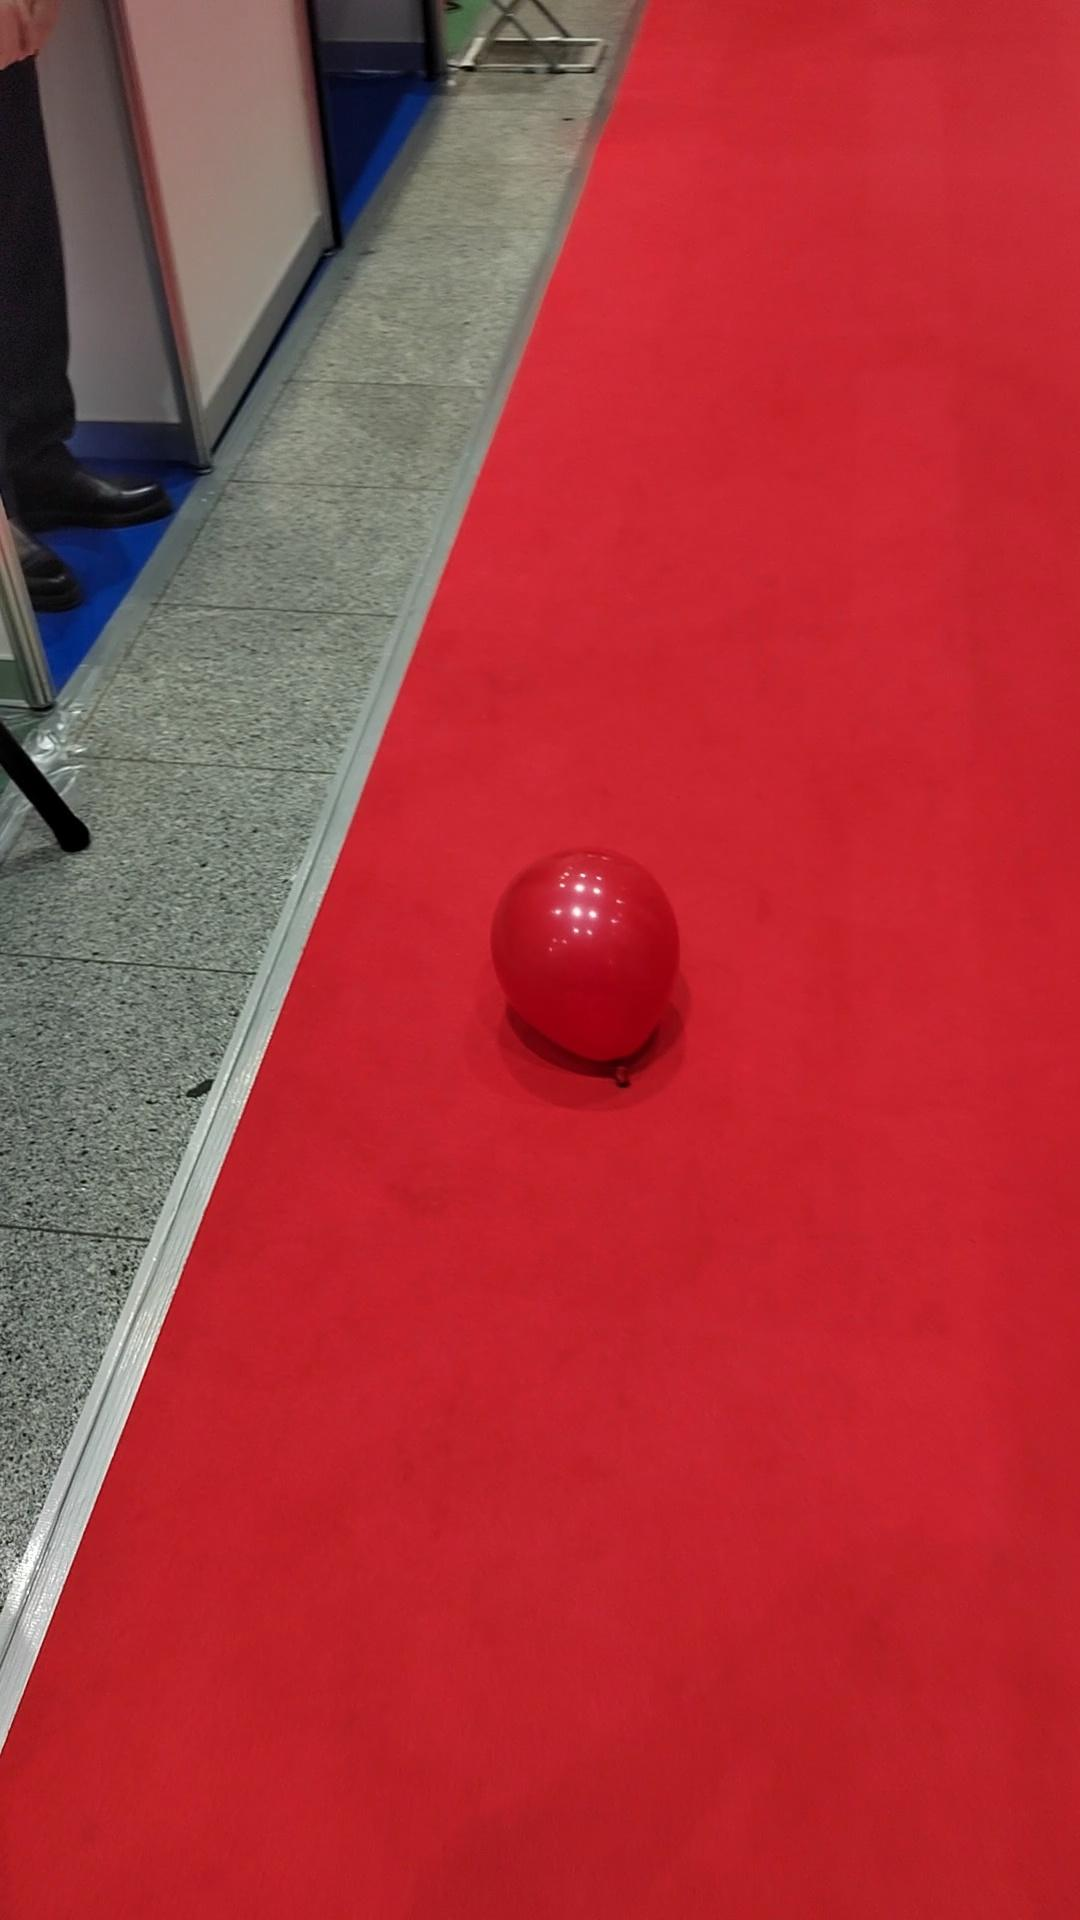red: (489, 846, 678, 1063)
